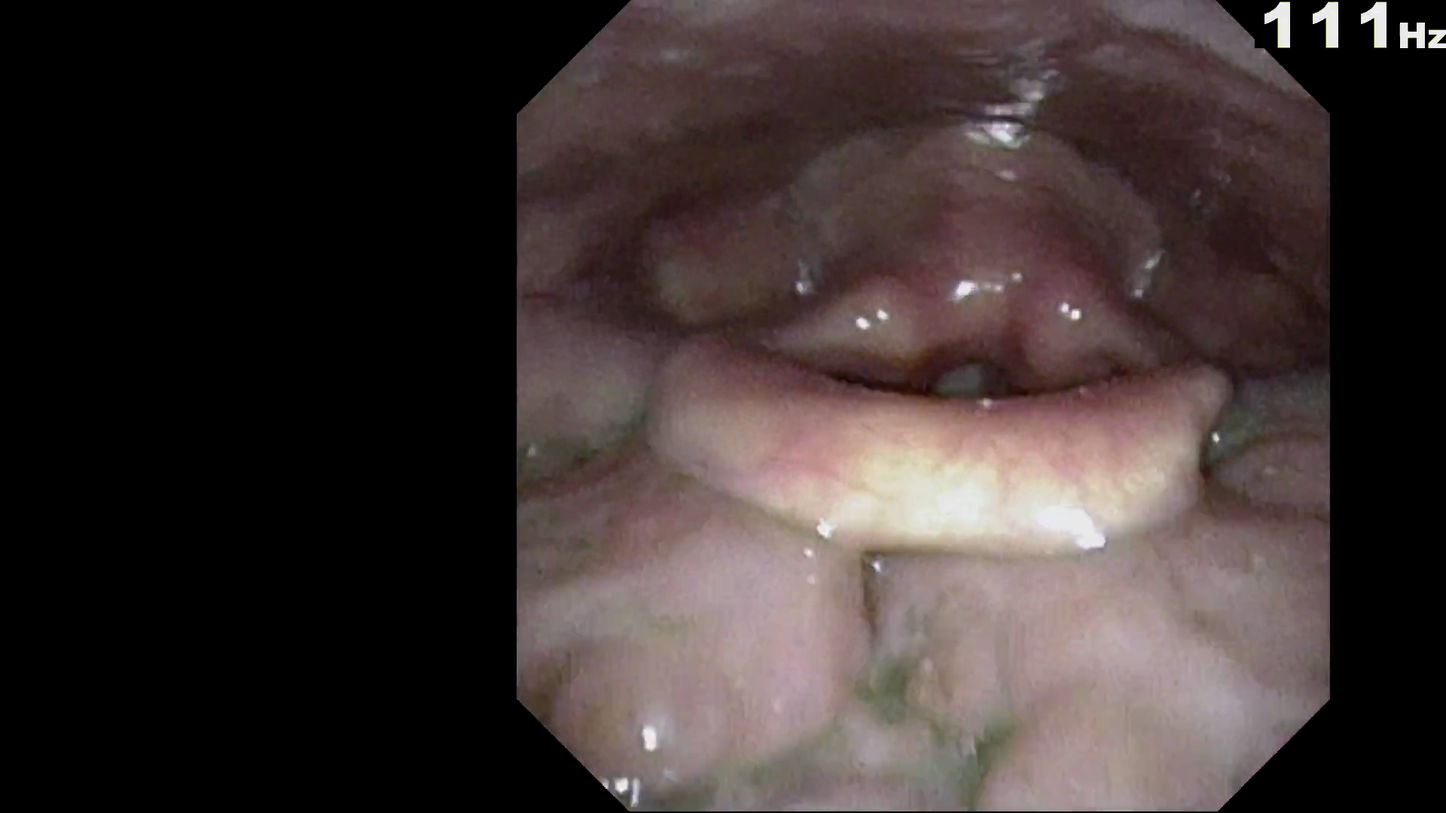epiglottis: (660, 374, 1211, 542)
trachea: (937, 337, 1014, 435)
